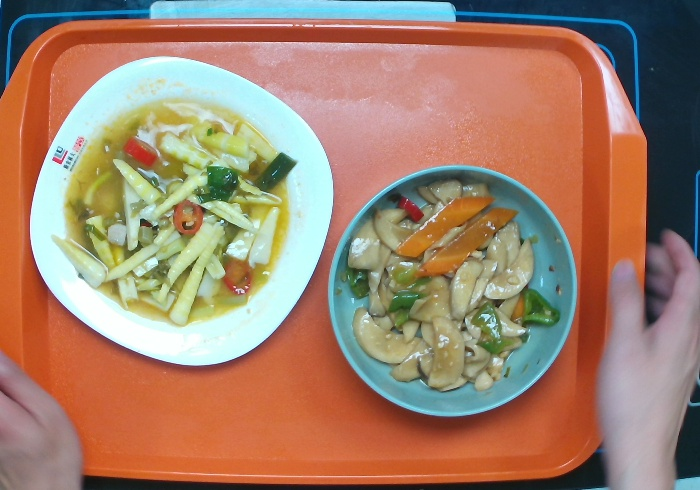ZNLD-Qing_Hua_Yuan_Wan: (326, 163, 579, 418)
ZNLD-Yuan_Jiao_Pan: (27, 53, 335, 367)
